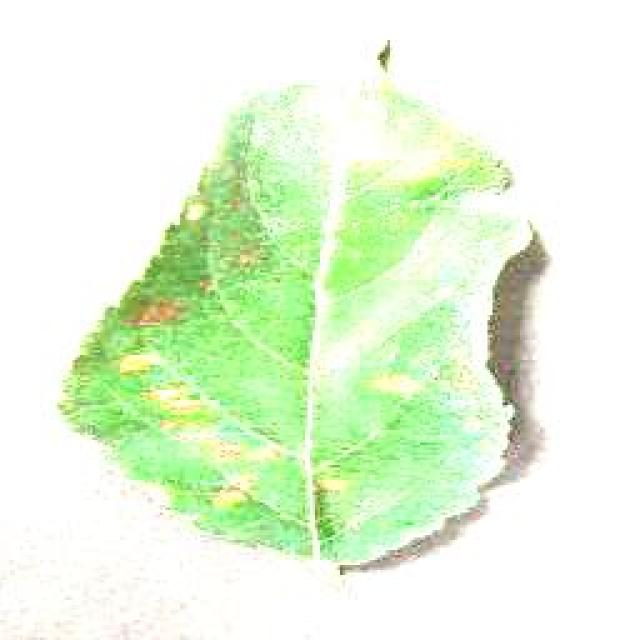apple healthy: (55, 37, 550, 575)
